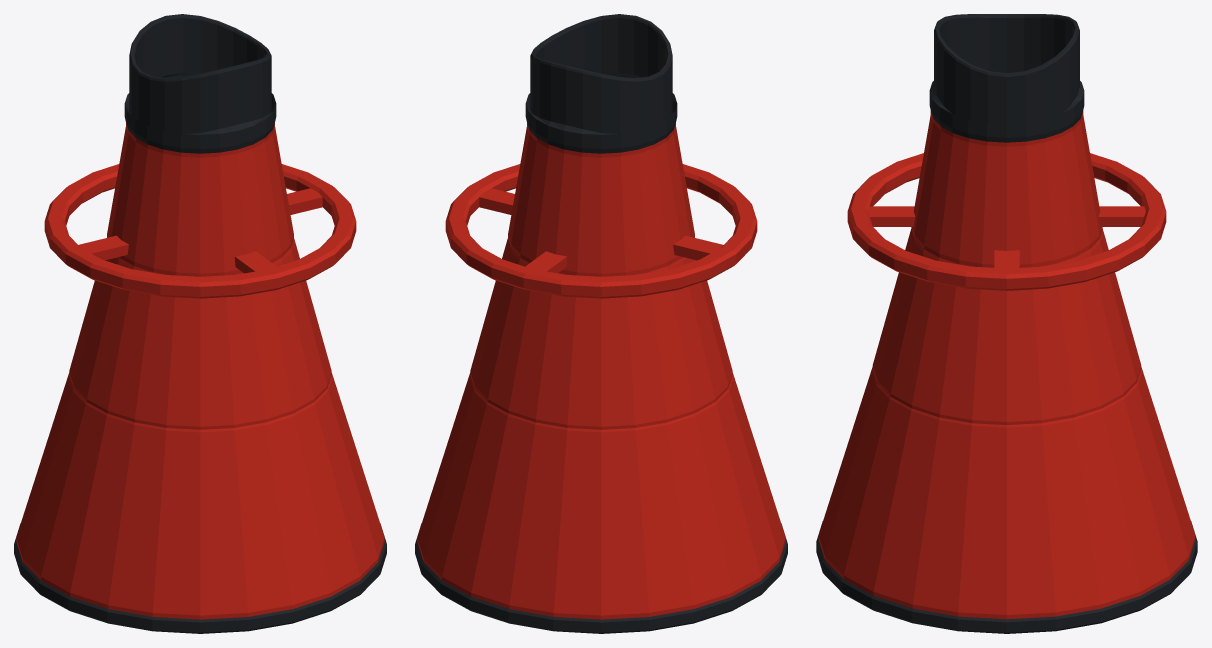
3 views of the same model, side by side, from view 1: azimuth 30°, elevation 25°; view 2: azimuth 150°, elevation 25°; view 3: azimuth 270°, elevation 25° (orthographic). The views are drawn at different scales.
Parts seen in each view (by area): view 1: NEW670_LowerShell, NEW670_UpperWithRing, NEW670_MiddleShell, NEW670_ContouredEyecup, NEW670_BaseRim; view 2: NEW670_LowerShell, NEW670_UpperWithRing, NEW670_MiddleShell, NEW670_ContouredEyecup, NEW670_BaseRim; view 3: NEW670_LowerShell, NEW670_UpperWithRing, NEW670_MiddleShell, NEW670_ContouredEyecup, NEW670_BaseRim.
Part boxes in pixels (x1,y1,x2,y2): NEW670_LowerShell: (16,373,384,619); NEW670_UpperWithRing: (44,123,356,298); NEW670_MiddleShell: (69,238,331,429); NEW670_ContouredEyecup: (124,14,276,153); NEW670_BaseRim: (14,523,386,633); NEW670_LowerShell: (417,373,785,619); NEW670_UpperWithRing: (445,123,757,298); NEW670_MiddleShell: (470,238,732,429); NEW670_ContouredEyecup: (525,14,677,153); NEW670_BaseRim: (415,523,787,633); NEW670_LowerShell: (818,367,1195,619); NEW670_UpperWithRing: (847,111,1166,290); NEW670_MiddleShell: (872,229,1141,424); NEW670_ContouredEyecup: (929,14,1084,142); NEW670_BaseRim: (816,521,1197,633).
Size of the model in its own units: 0.335 by 0.335 by 0.51.
